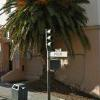Tree: (6, 0, 100, 60)
